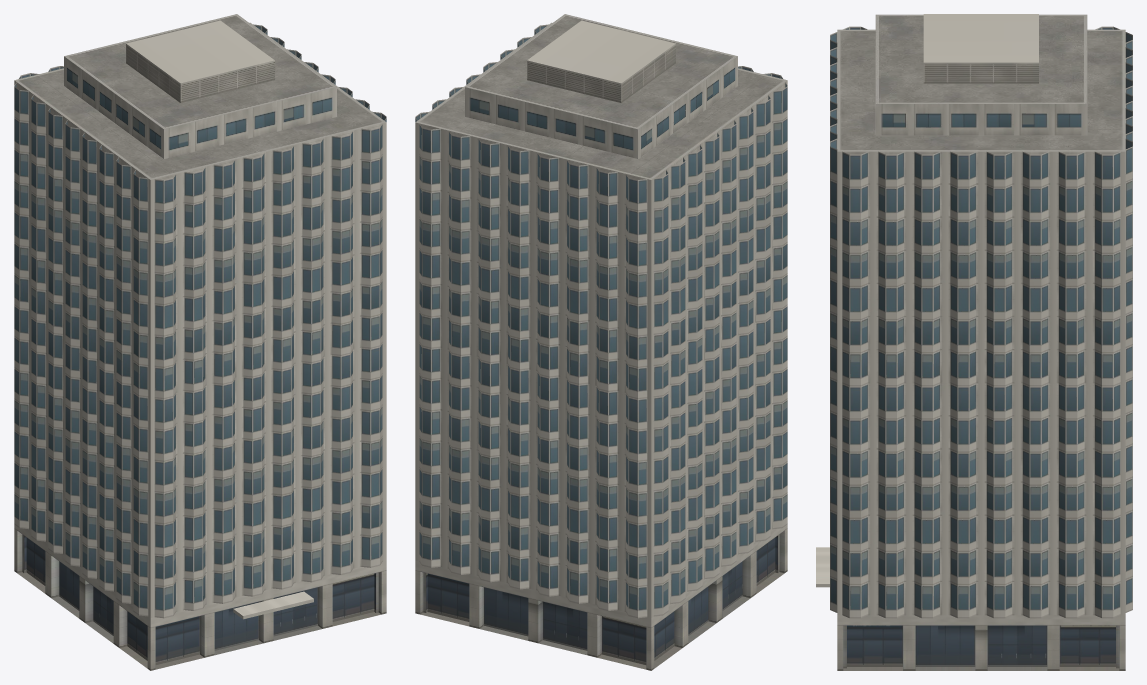
File: sf_glassslab_d.glb
The picture shows the model from 3 angles, left to right: view 1: azimuth 30°, elevation 25°; view 2: azimuth 150°, elevation 25°; view 3: azimuth 270°, elevation 25°; orthographic projection. The views are drawn at different scales.
Parts seen in each view (by area): view 1: sf_glassslab_d; view 2: sf_glassslab_d; view 3: sf_glassslab_d.
Boxes of the visible parts, x1,y1,x2,y2 form: sf_glassslab_d: (14, 14, 386, 670); sf_glassslab_d: (415, 14, 787, 670); sf_glassslab_d: (816, 14, 1132, 670).
Bounding box in the file's own units: 31.5 × 65.6 × 32.95.
Materials: 1 (1 with a texture image).
